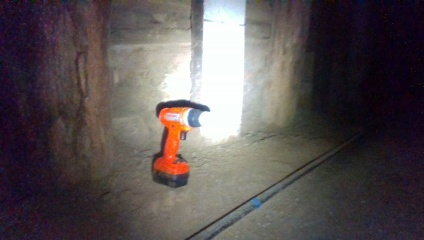drill: (150, 103, 215, 189)
